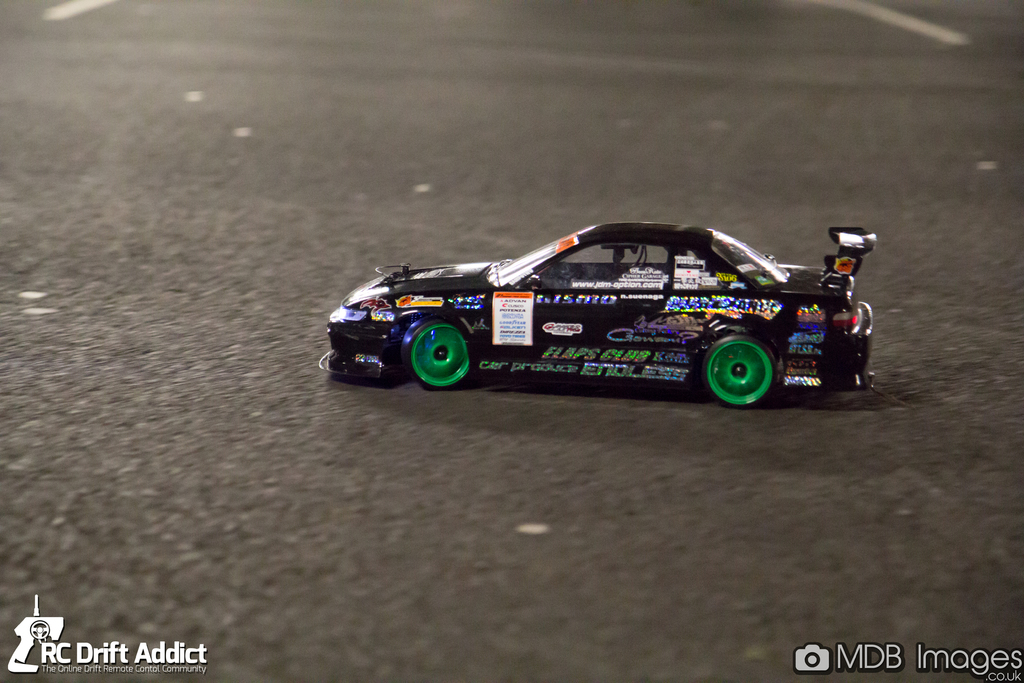Car: (334, 208, 883, 411)
